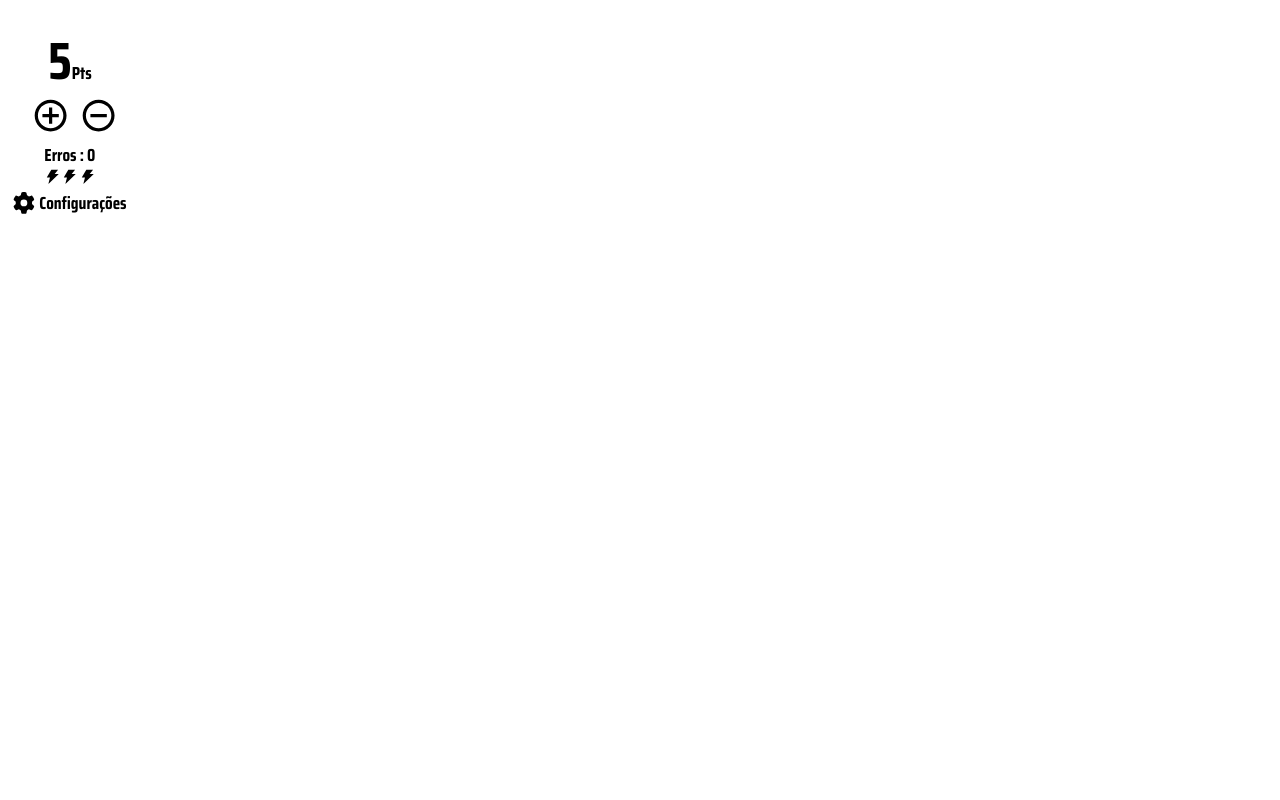
CountCard Config › deve aceitar apenas números no campo pontos
Click the text "Configurações" at (70, 203), box [13,189,127,217]
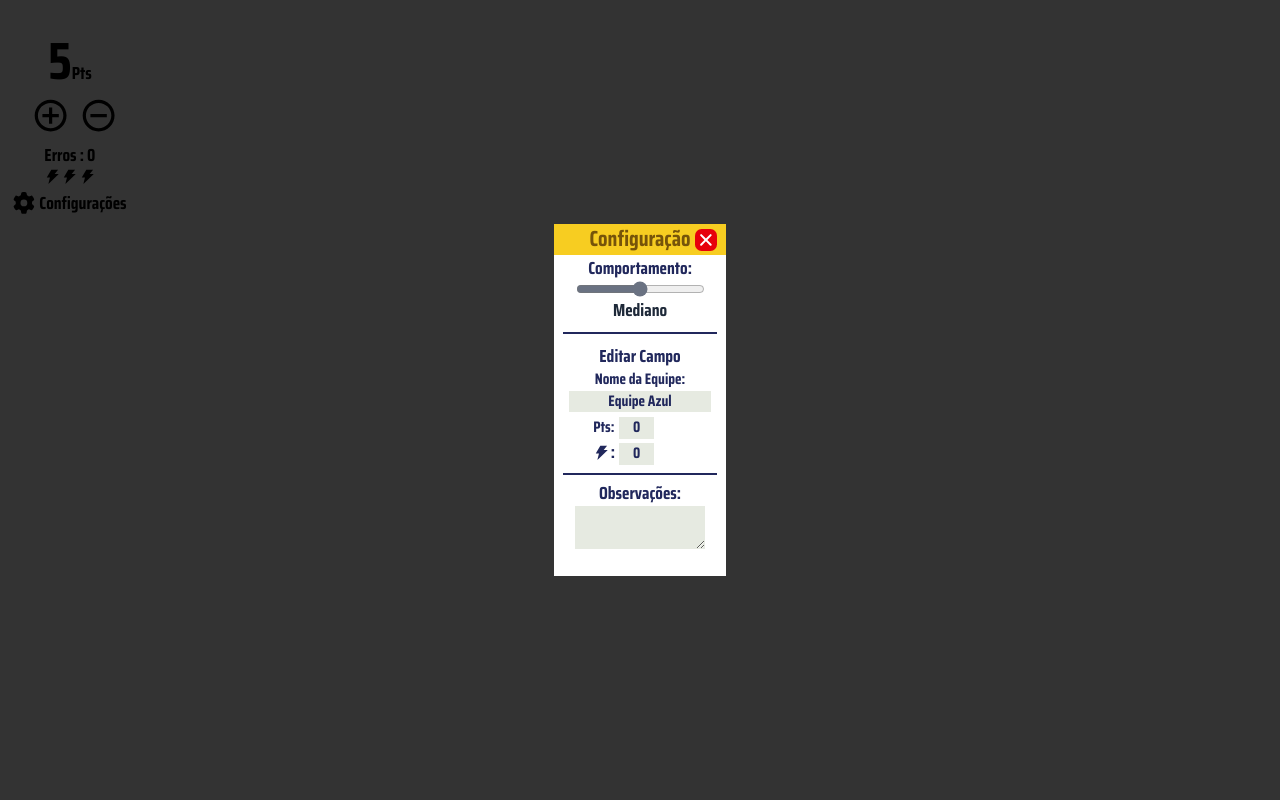
Type "abc123" into the 2nd field at (637, 428), box [619,417,654,438]
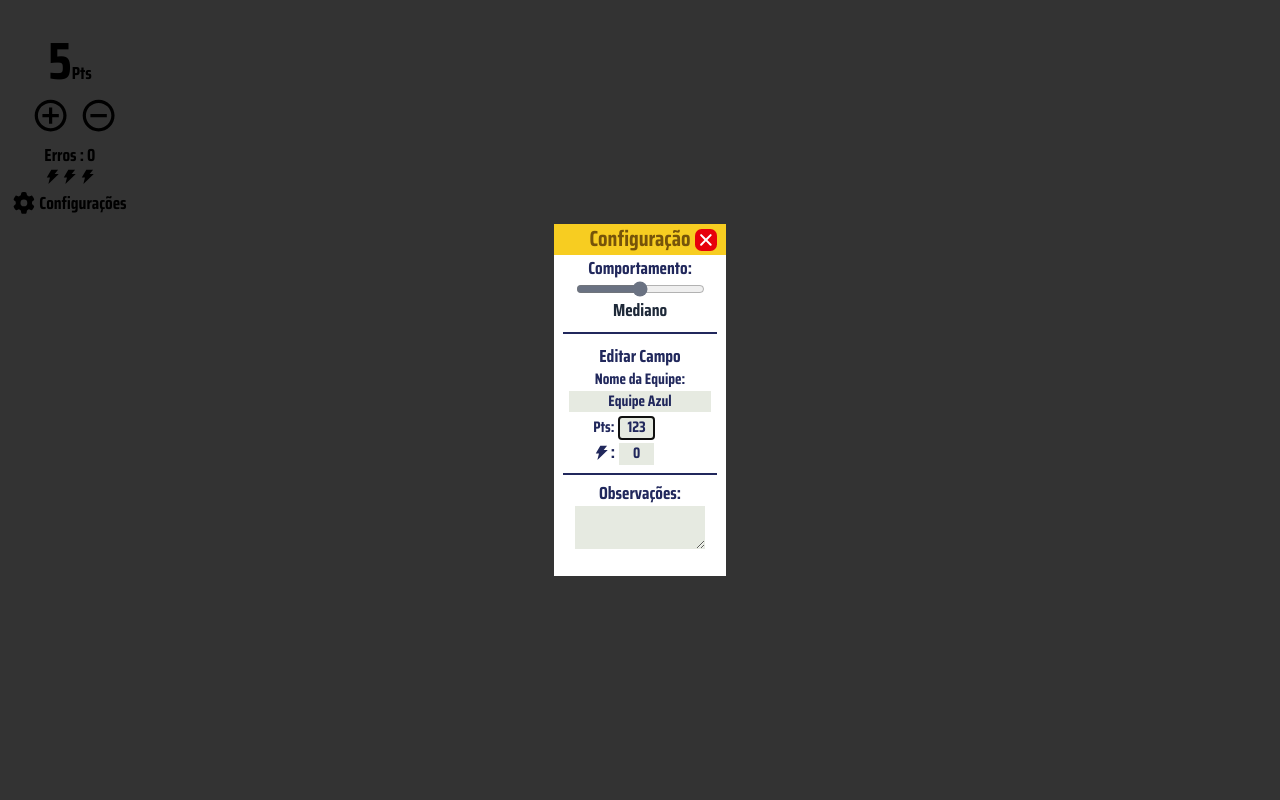
Now the 2nd field holds "123", box [619,417,654,438]
